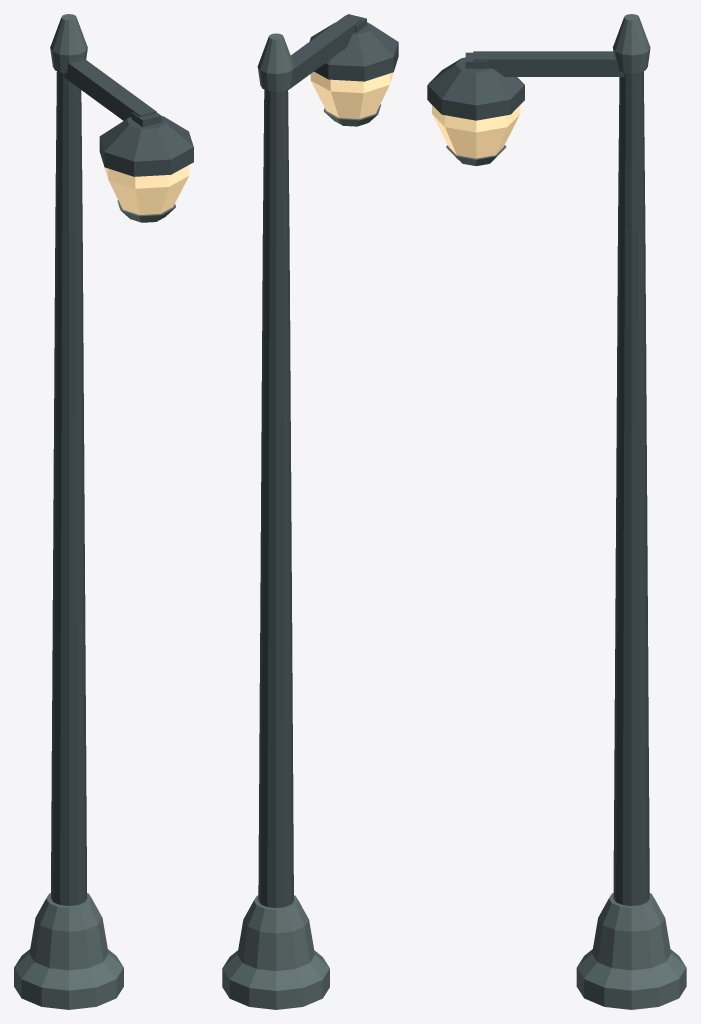
Rendered from lantern.glb.
3 renders of one model, left to right at view 1: azimuth 30°, elevation 25°; view 2: azimuth 150°, elevation 25°; view 3: azimuth 270°, elevation 25°, orthographic.
Parts seen in each view (by area): view 1: lantern; view 2: lantern; view 3: lantern.
Boxes of the visible parts, x1,y1,x2,y2 form: lantern: [14, 14, 193, 1009]; lantern: [222, 14, 398, 1009]; lantern: [427, 14, 686, 1009].
Size of the model in its own units: 0.36 by 3.51 by 0.85.
